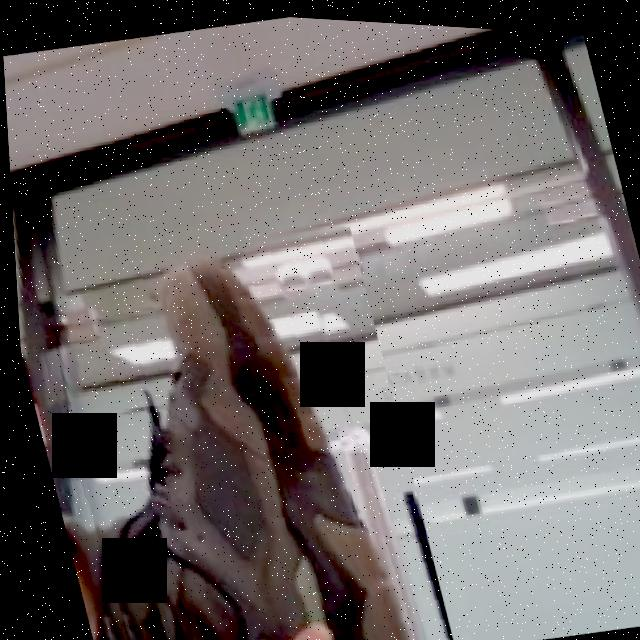shoe: (9, 194, 449, 640)
